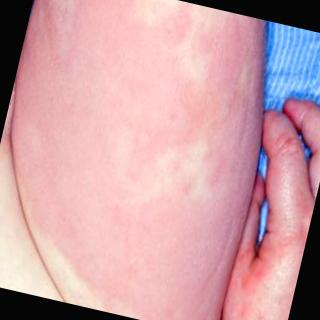urticaria: (53, 26, 235, 296)
